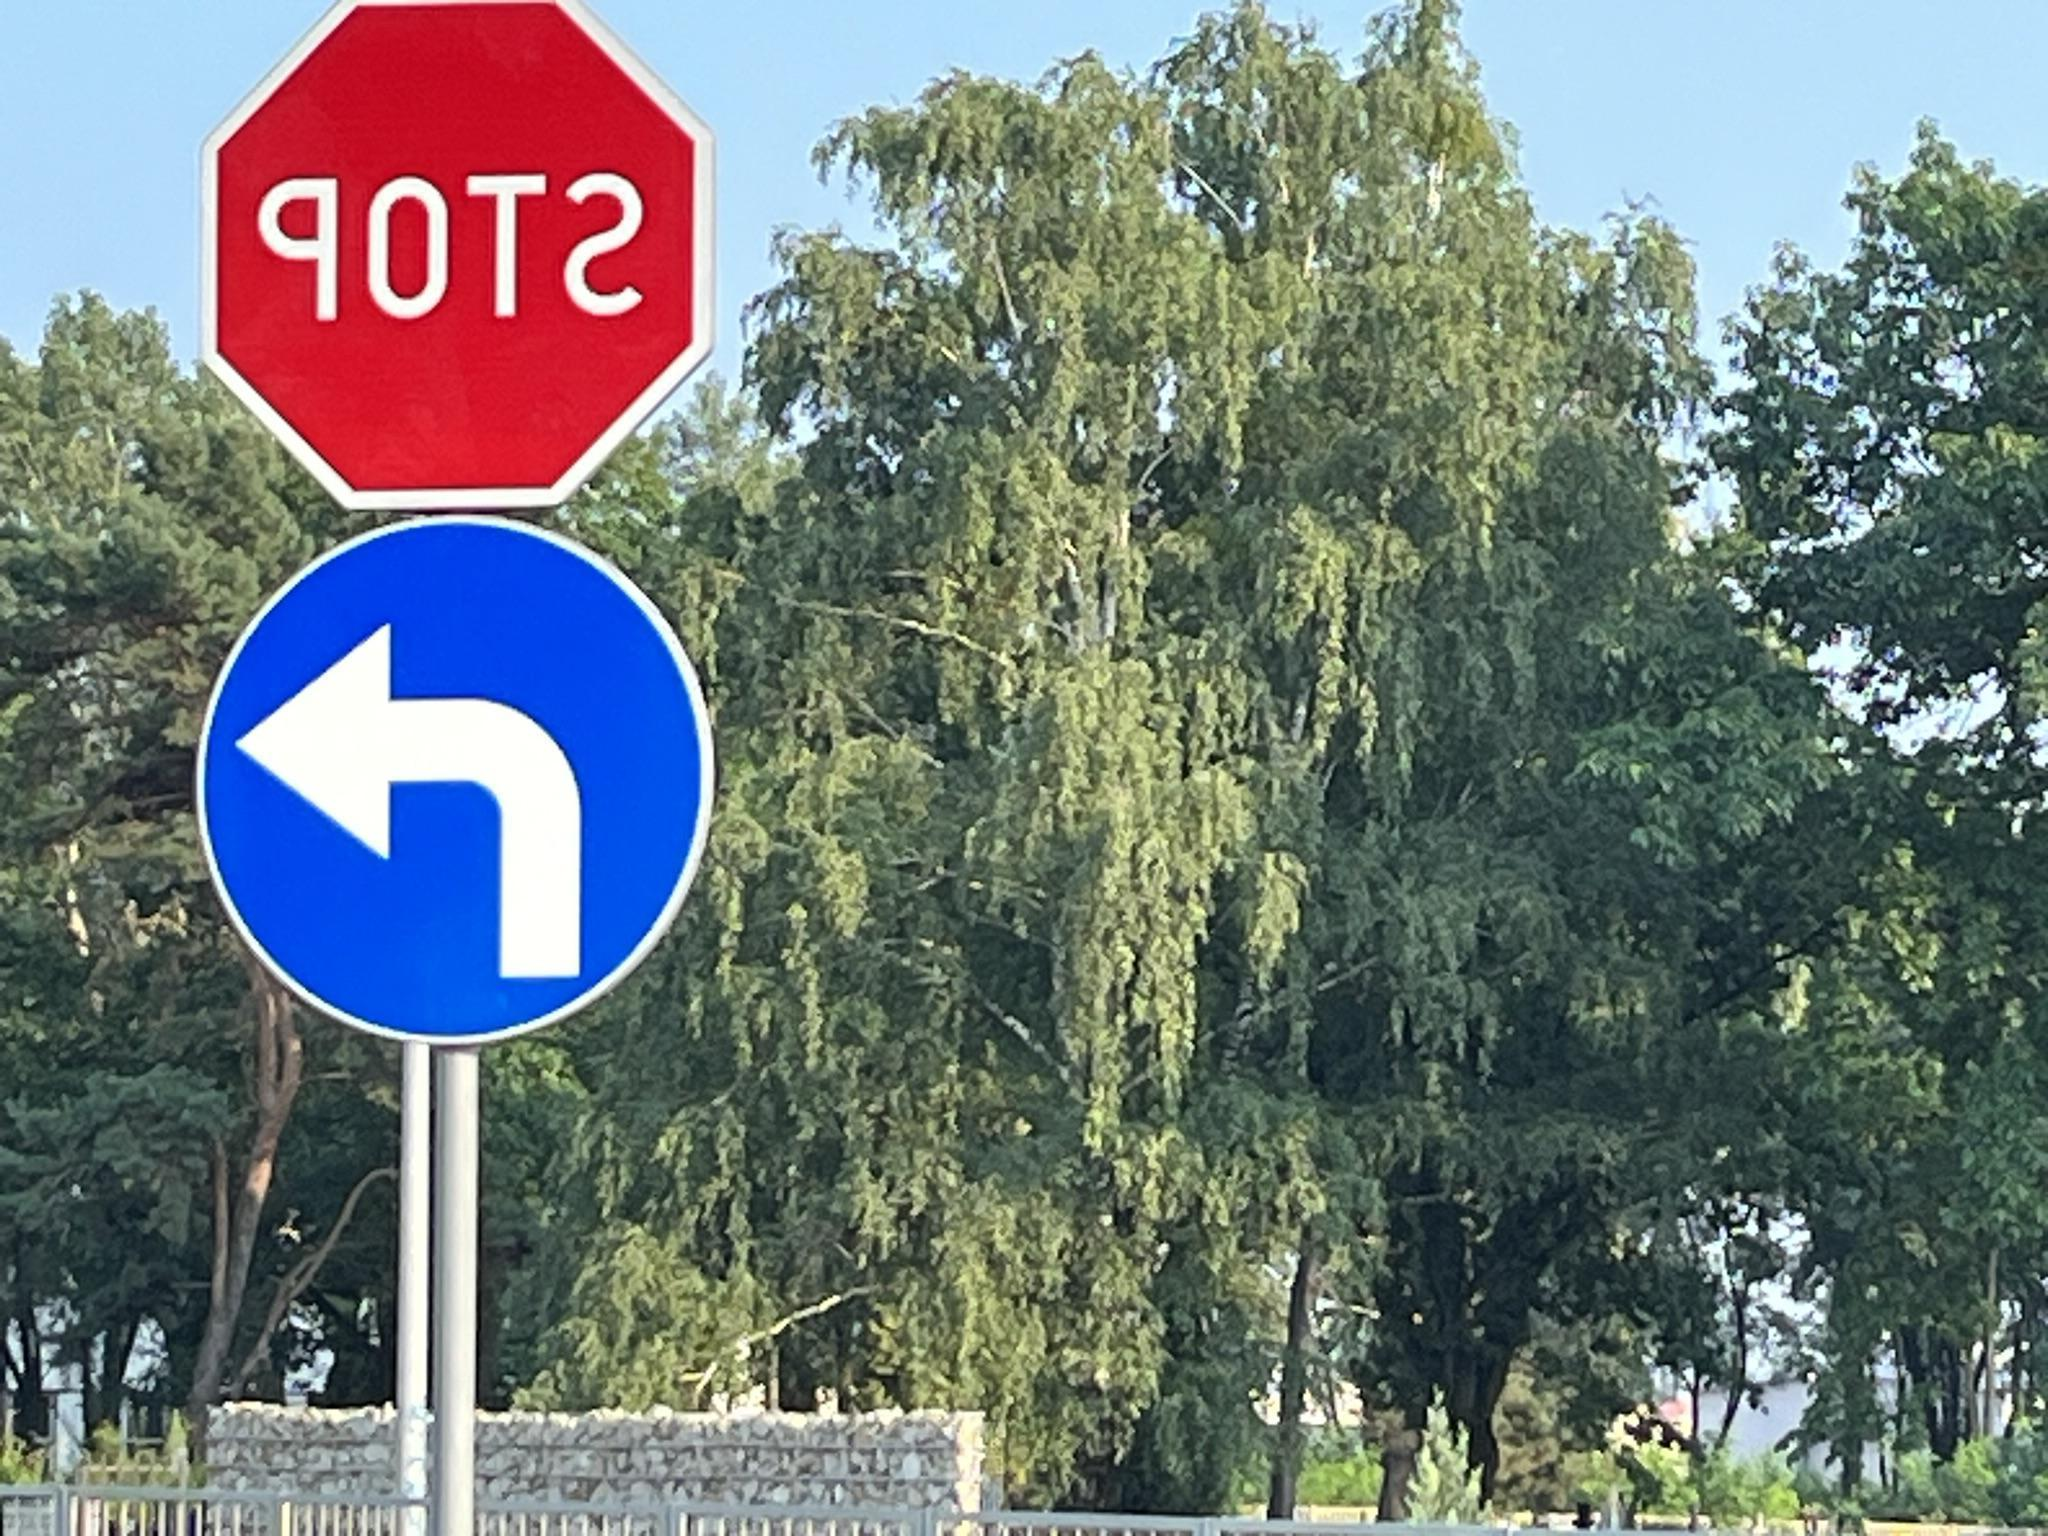mandatory: (194, 510, 714, 1050)
prohibitory: (202, 0, 713, 503)
